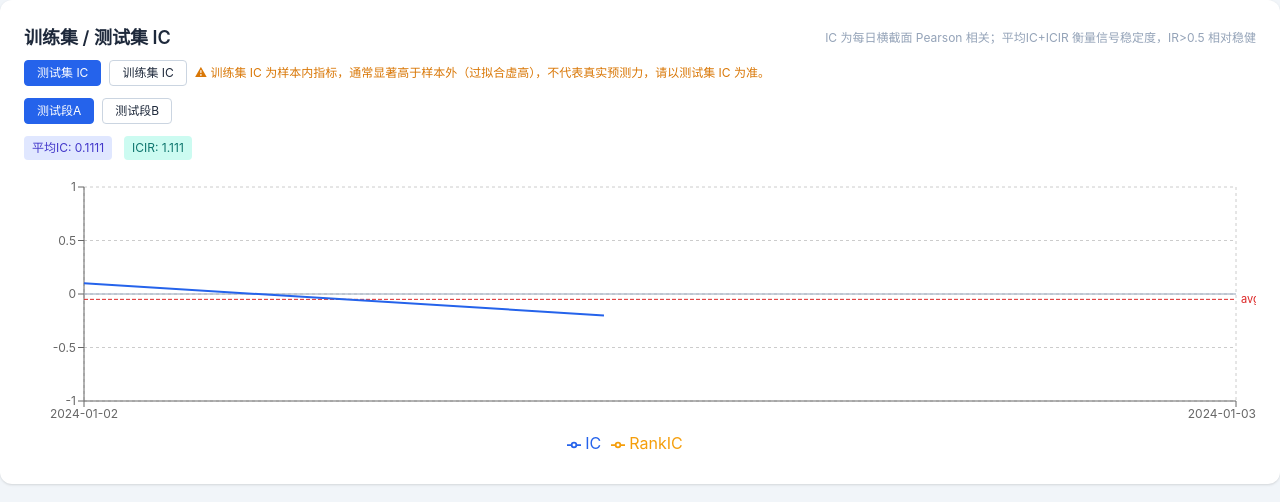
ICChart（交互） › 默认在测试集；点「训练集 IC」后列表真的换过去
Expected: the text "训练段C" is not shown
Click the button "训练集 IC" at [148, 73], box [109, 60, 187, 86]
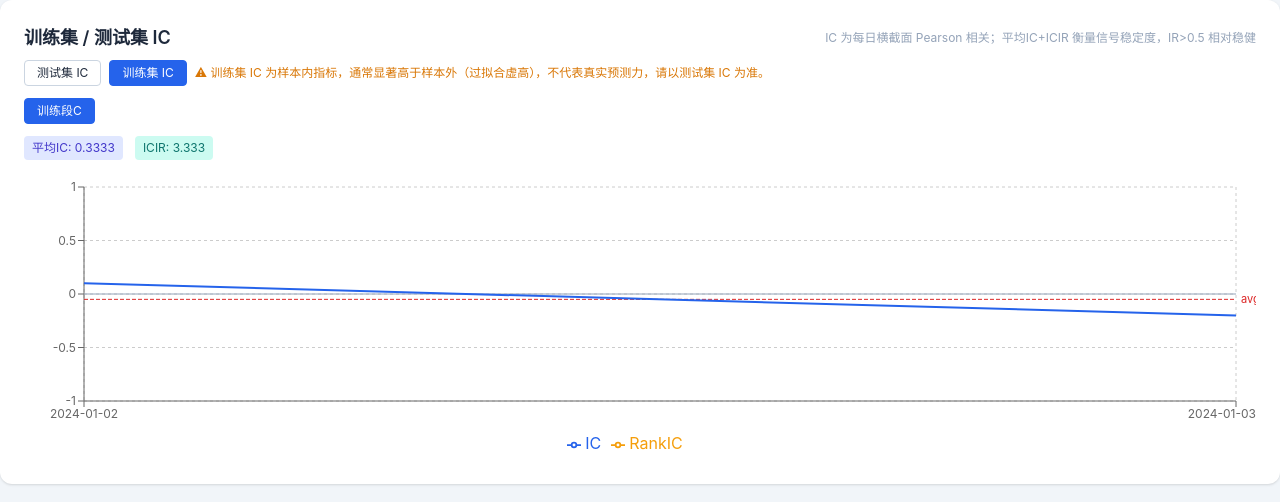
Now the text "训练段C" is shown, box [24, 98, 95, 124]
Now the text "测试段A" is gone
